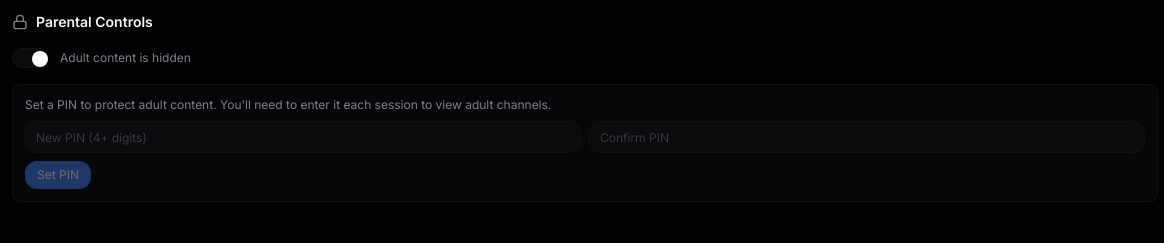
Test: PinSetup › shows error when PIN is too short
This screenshot has width=1164, height=243.
Type "12" into the password field with placeholder "New PIN (4+ digits)".
click(303, 137); type("12")  # box 25,121 -> 581,153
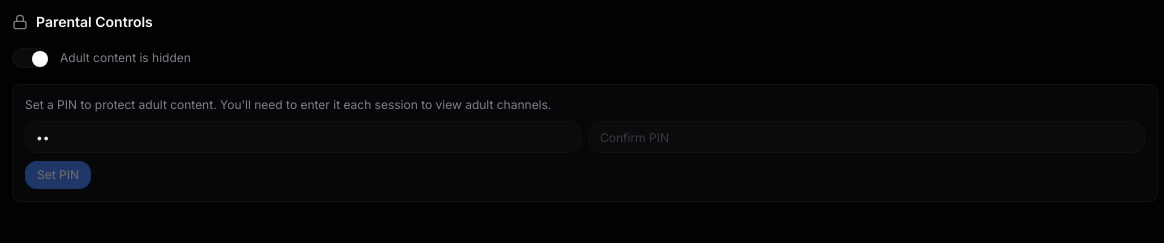
Type "12" into the password field with placeholder "Confirm PIN".
click(867, 137); type("12")  # box 589,121 -> 1145,153
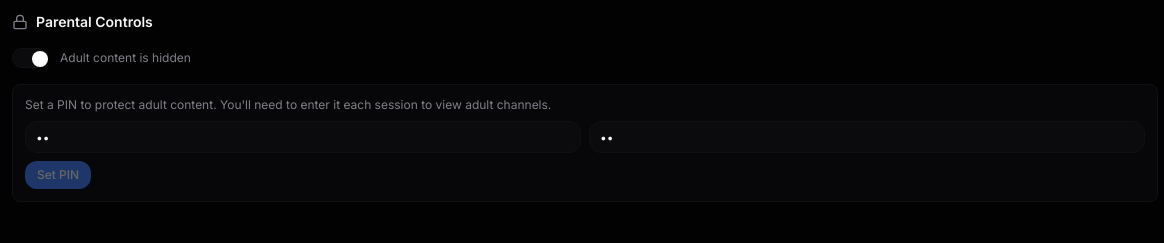
Type "1234" into the 1st password field with placeholder "New PIN (4+ digits)".
click(303, 137); type("1234")  # box 25,121 -> 581,153
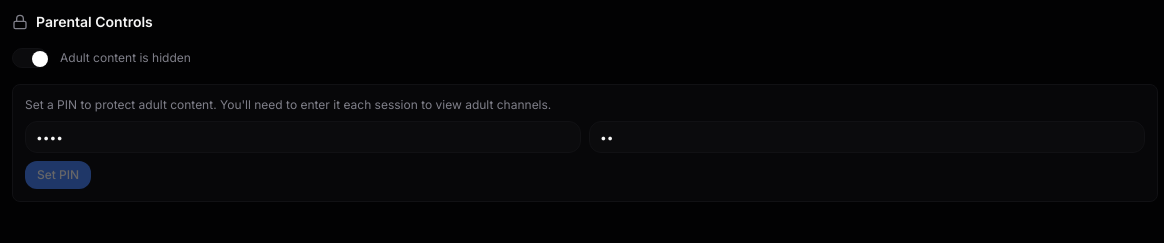
Type "9999" into the 2nd password field with placeholder "Confirm PIN".
click(867, 137); type("9999")  # box 589,121 -> 1145,153
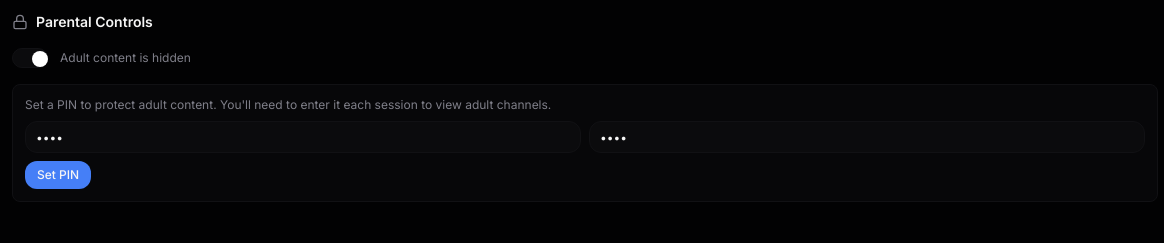
Click the button "Set PIN".
click(58, 175)  # box 25,161 -> 91,189
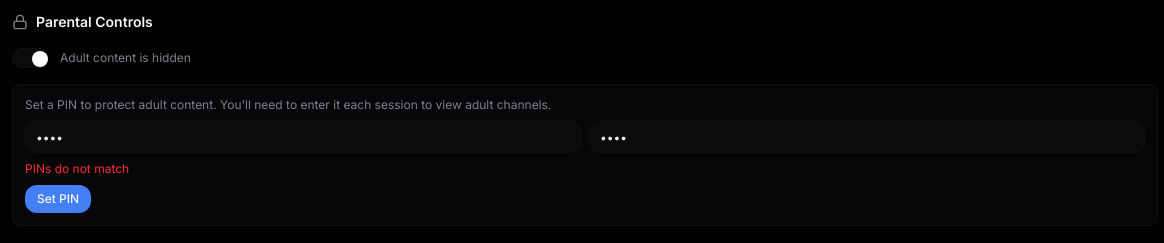
expect the text "PINs do not match" is shown: met, box 25,161 -> 129,176
